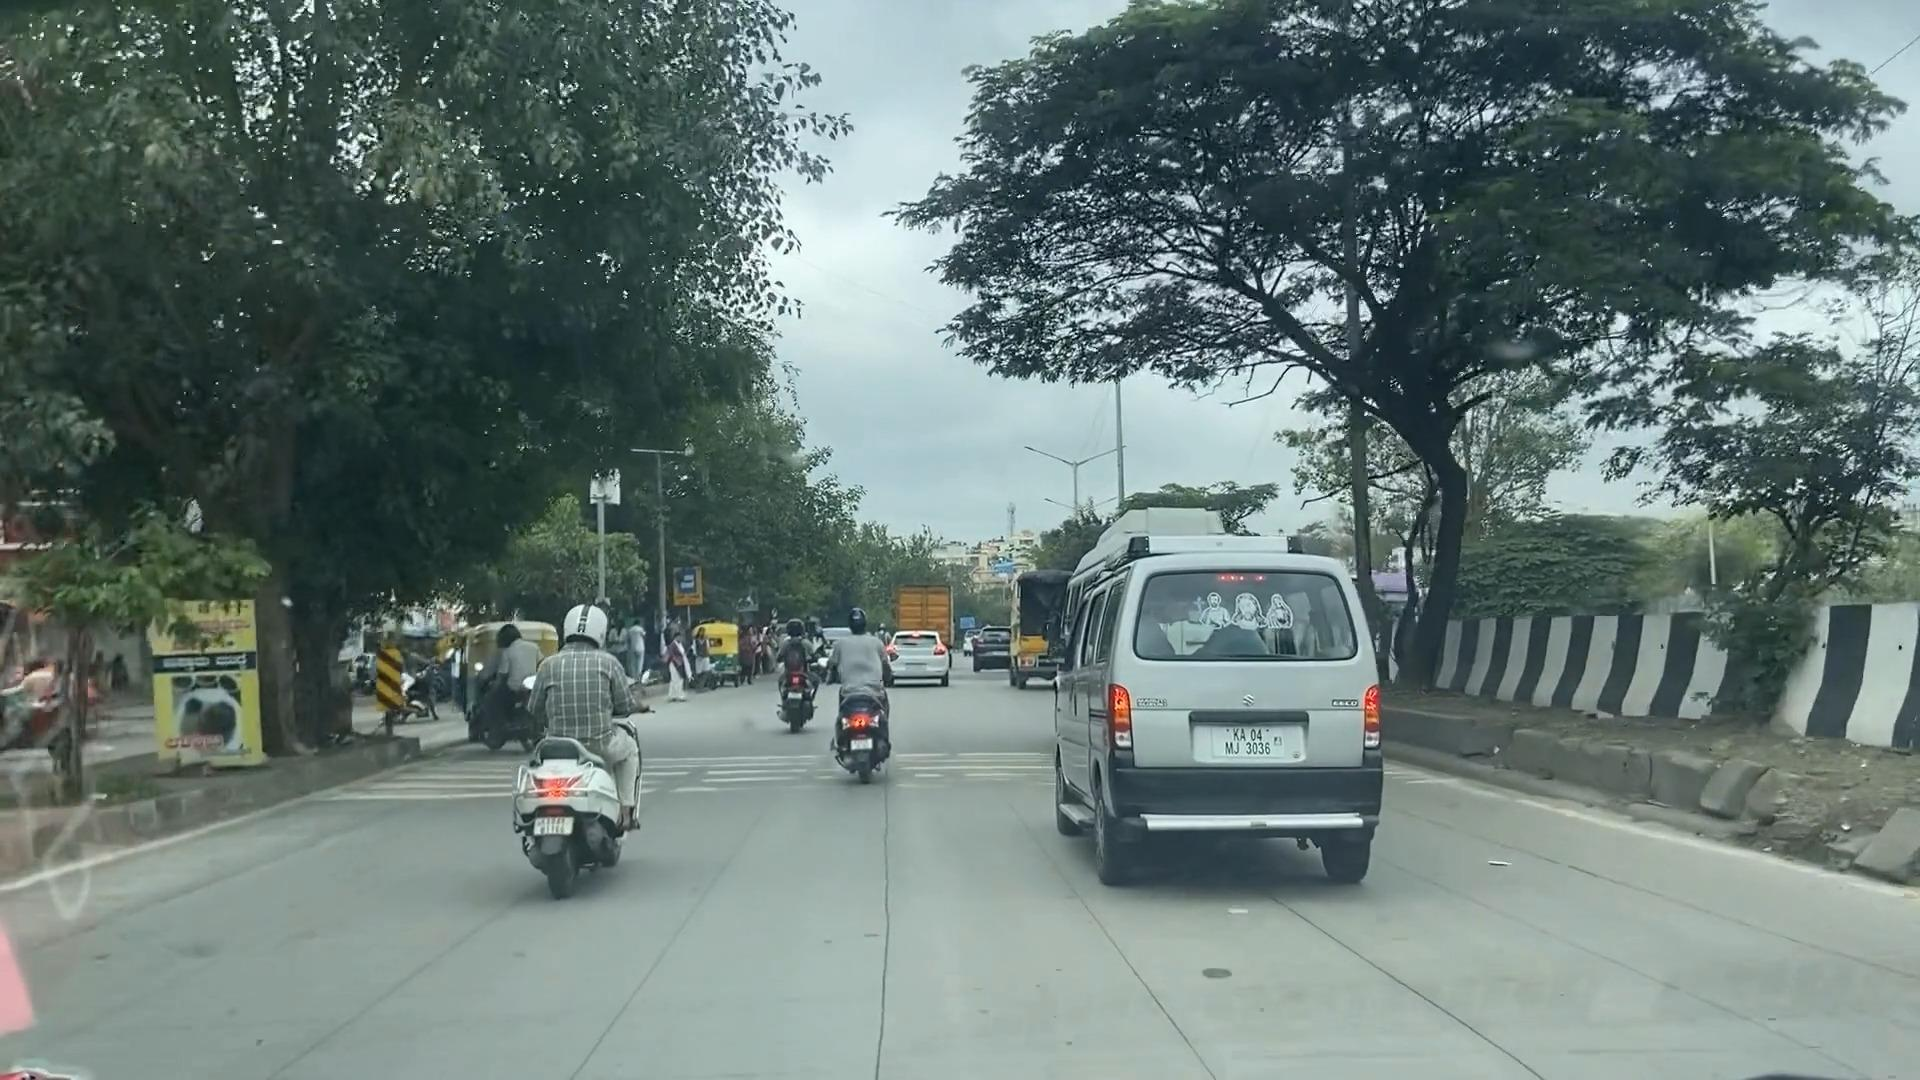LMV: (1060, 550, 1399, 897), (502, 611, 663, 905), (833, 608, 910, 789)
